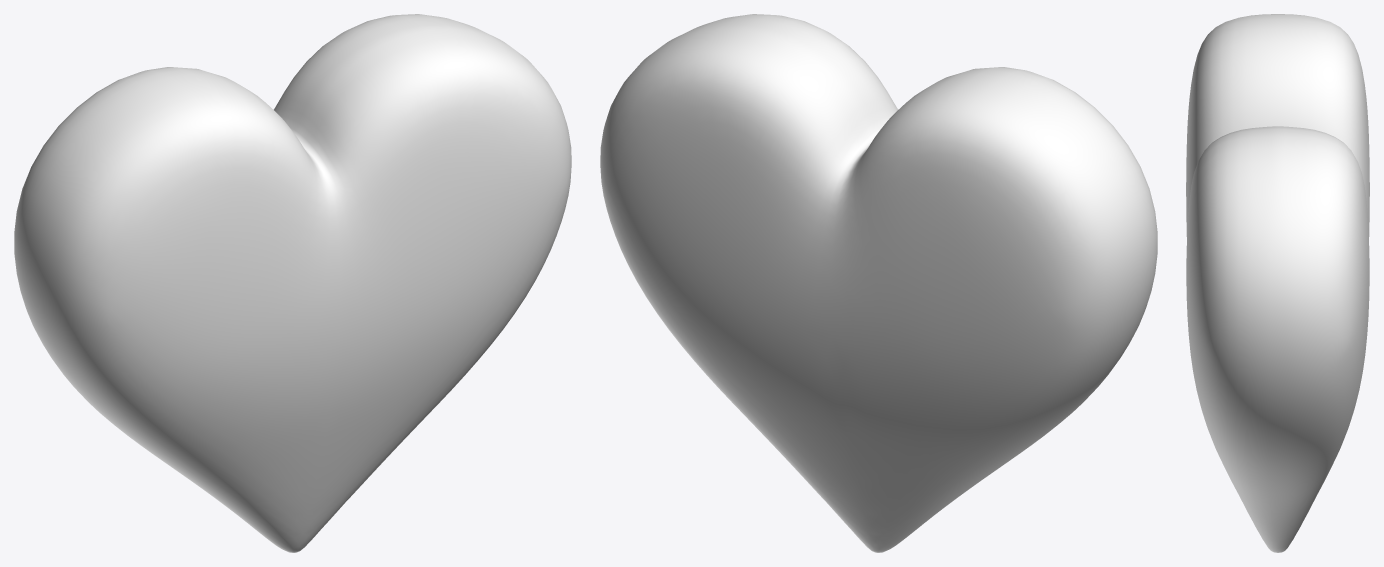
Rendered from white_heart.gltf.
3 renders of one model, left to right at view 1: azimuth 30°, elevation 25°; view 2: azimuth 150°, elevation 25°; view 3: azimuth 270°, elevation 25°, orthographic. The views are drawn at different scales.
Visible parts, largest first — view 1: hfdjkslfjkds.026; view 2: hfdjkslfjkds.026; view 3: hfdjkslfjkds.026.
Part boxes in pixels (box(x1,y1,x2,y2)): hfdjkslfjkds.026: box(14, 14, 571, 552); hfdjkslfjkds.026: box(600, 14, 1157, 552); hfdjkslfjkds.026: box(1186, 14, 1369, 552).
Bounding box in the file's own units: 1.86 × 1.68 × 0.5956.
Materials: 1 (1 with a texture image).
